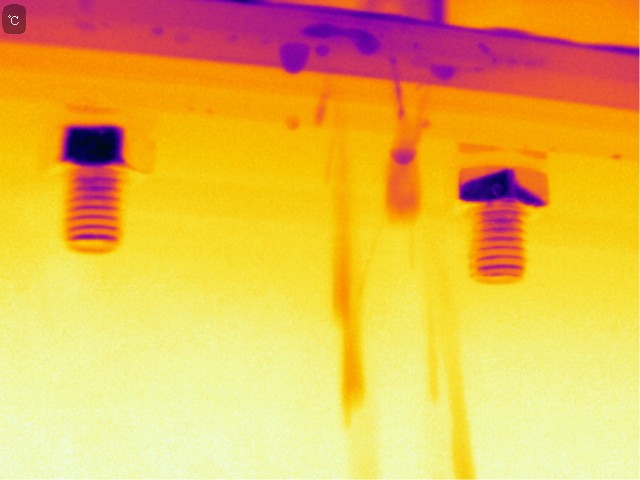Water: (311, 20, 388, 58), (383, 137, 427, 173), (275, 39, 313, 78), (421, 57, 462, 87)
